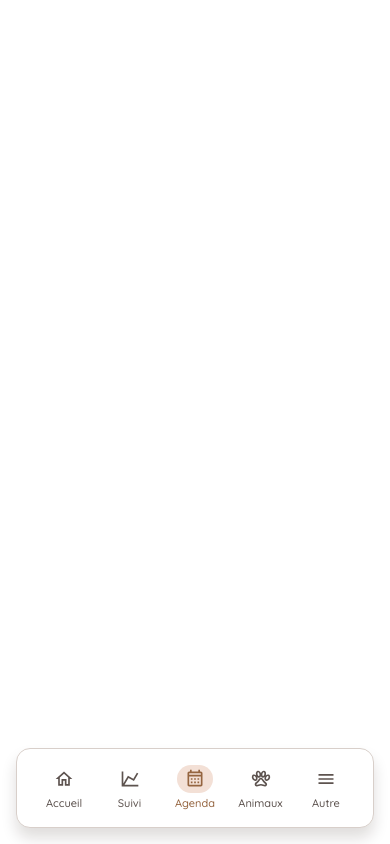
Test: CompactNavigation Vasco › conserve cinq destinations stables et ouvre les destinations secondaires
Expected: the number of links is 3, [46, 769, 82, 810]; [175, 765, 215, 810]; [238, 769, 283, 810]
Expected: the button "Suivi" is shown, [98, 760, 160, 816]
Step 1. Click the button "Autre" → [326, 788], box [295, 760, 357, 816]
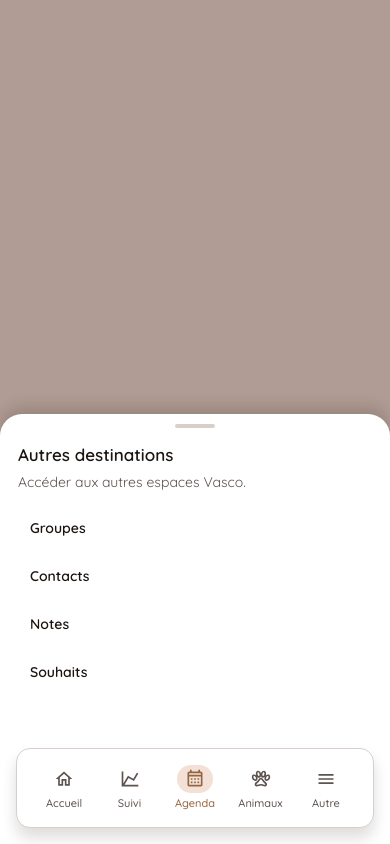
Expected: the navigation bar named "Autres destinations" is shown, [30, 519, 90, 681]
